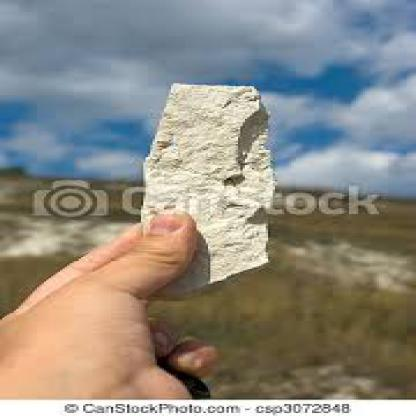Sedimentary_Chalk: (120, 69, 296, 292)
